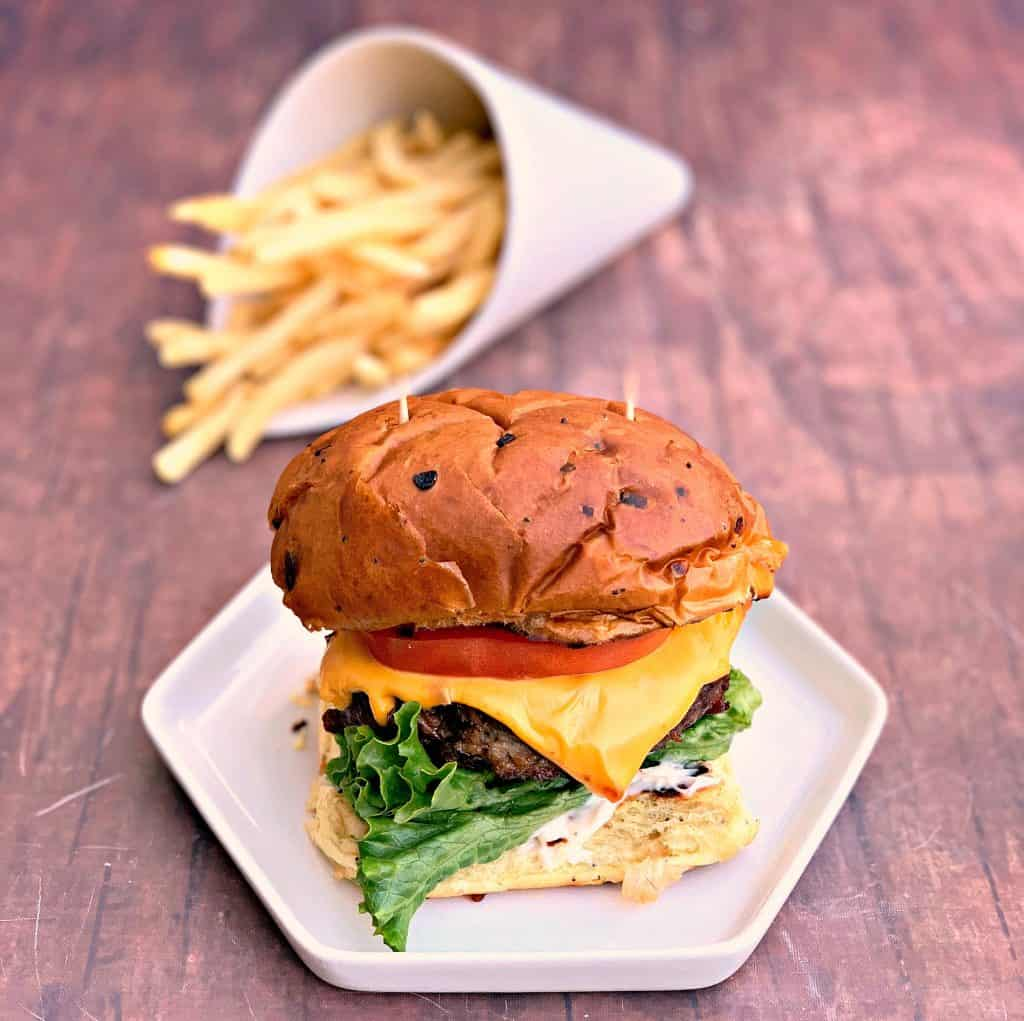hamburger_buns: (281, 401, 817, 897)
